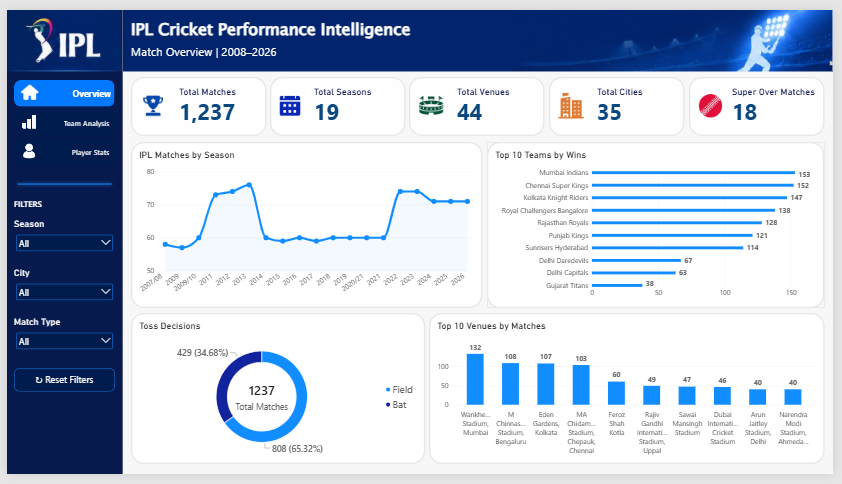

What the dashboard file says about the page in this screenshot:
{"tool":"powerbi","page":{"name":"Overview","canvas":[1920,1080],"ordinal":0},"visuals":[{"type":"image","box":[269.4,0,1650,143.4],"z":0,"group":"g1"},{"type":"cardVisual","fields":{"Data":["Matches.Total Matches"]},"box":[287.7,156.9,315.4,136.9],"z":0},{"type":"shape","box":[0,0,269,1081],"z":1000,"group":"g1"},{"type":"cardVisual","fields":{"Data":["Matches.Total Seasons"]},"box":[610.8,155.4,315.4,136.9],"z":1000},{"type":"cardVisual","fields":{"Data":["Matches.Total Venues"]},"box":[935.4,155.4,315.4,136.9],"z":2000},{"type":"cardVisual","fields":{"Data":["Matches.Total Cities"]},"box":[1261.5,156.9,315.4,136.9],"z":3000},{"type":"cardVisual","fields":{"Data":["Matches.Super Over Matches"]},"box":[1586.2,156.9,315.4,136.9],"z":4000},{"type":"areaChart","title":"IPL Matches by Season","fields":{"Category":["Matches.season"],"Y":["Matches.Total Matches"]},"box":[288.2,306.6,817.1,385.5],"z":5000},{"type":"clusteredBarChart","title":"Top 10 Teams by Wins","fields":{"Category":["Teams.Team"],"Y":["Matches.Team Wins"]},"box":[1117.1,306.6,784.2,385.5],"z":6000},{"type":"donutChart","title":"Toss Decisions","fields":{"Category":["Matches.toss_decision"],"Y":["Matches.Total Matches"]},"box":[288.2,703.9,684.2,351.3],"z":7000},{"type":"columnChart","title":"Top 10 Venues by Matches","fields":{"Category":["Matches.venue"],"Y":["Matches.Total Matches"]},"box":[981.6,703.9,919.7,351.3],"z":8000},{"type":"group","id":"g1","title":"Group 1","box":[0,0,1920.2,1081],"z":9000},{"type":"image","box":[31.4,172.9,42.9,37.1],"z":10000,"group":"g2"},{"type":"image","box":[0,0,268.6,142.9],"z":11000,"group":"g1"},{"type":"image","box":[31.3,243.3,42.9,37.1],"z":11000,"group":"g2"},{"type":"image","box":[31.3,310.5,42.5,37.3],"z":12000,"group":"g2"},{"type":"slicer","title":"Season","fields":{"Values":["Matches.season"]},"box":[17.3,483.8,235.4,88.6],"z":12000,"group":"g1"},{"type":"group","id":"g2","title":"Group 2","box":[31.3,172.9,42.9,174.9],"z":12001},{"type":"pageNavigator","box":[17.1,162.9,234.3,198.6],"z":13000,"group":"g1"},{"type":"slicer","title":"City","fields":{"Values":["Matches.city"]},"box":[17.3,598.3,235.4,88.6],"z":14000,"group":"g1"},{"type":"slicer","title":"Match Type","fields":{"Values":["Matches.match_type"]},"box":[17.3,710.6,235.4,88.6],"z":15000,"group":"g1"},{"type":"actionButton","box":[16.7,833.3,235,55],"z":16000,"group":"g1"},{"type":"shape","box":[16.7,391.7,235,28.3],"z":17000,"group":"g1"},{"type":"textbox","box":[16.7,436.7,73.3,30],"z":18000,"group":"g1"},{"type":"image","box":[31.4,172.9,42.9,37.1],"z":20002,"group":"g1"},{"type":"textbox","title":"IPL Cricket Performance Intelligence","box":[287.3,17.3,1633,112.3],"z":20502,"group":"g1"}]}

Visuals, with their boxes on the page's 1920x1080 design canvas (x1, y1, x2, y2). These are canvas units, not pixel positions in the 842x484 screenshot, which may show the page scaled, cropped or inside an application window:
image: bbox=[269, 0, 1919, 143]
cardVisual - Matches.Total Matches: bbox=[288, 157, 603, 294]
shape: bbox=[0, 0, 269, 1081]
cardVisual - Matches.Total Seasons: bbox=[611, 155, 926, 292]
cardVisual - Matches.Total Venues: bbox=[935, 155, 1251, 292]
cardVisual - Matches.Total Cities: bbox=[1262, 157, 1577, 294]
cardVisual - Matches.Super Over Matches: bbox=[1586, 157, 1902, 294]
"IPL Matches by Season" areaChart: bbox=[288, 307, 1105, 692]
"Top 10 Teams by Wins" clusteredBarChart: bbox=[1117, 307, 1901, 692]
"Toss Decisions" donutChart: bbox=[288, 704, 972, 1055]
"Top 10 Venues by Matches" columnChart: bbox=[982, 704, 1901, 1055]
"Group 1" group: bbox=[0, 0, 1920, 1081]
image: bbox=[31, 173, 74, 210]
image: bbox=[0, 0, 269, 143]
image: bbox=[31, 243, 74, 280]
image: bbox=[31, 310, 74, 348]
"Season" slicer: bbox=[17, 484, 253, 572]
"Group 2" group: bbox=[31, 173, 74, 348]
pageNavigator: bbox=[17, 163, 251, 362]
"City" slicer: bbox=[17, 598, 253, 687]
"Match Type" slicer: bbox=[17, 711, 253, 799]
actionButton: bbox=[17, 833, 252, 888]
shape: bbox=[17, 392, 252, 420]
textbox: bbox=[17, 437, 90, 467]
image: bbox=[31, 173, 74, 210]
"IPL Cricket Performance Intelligence" textbox: bbox=[287, 17, 1920, 130]
